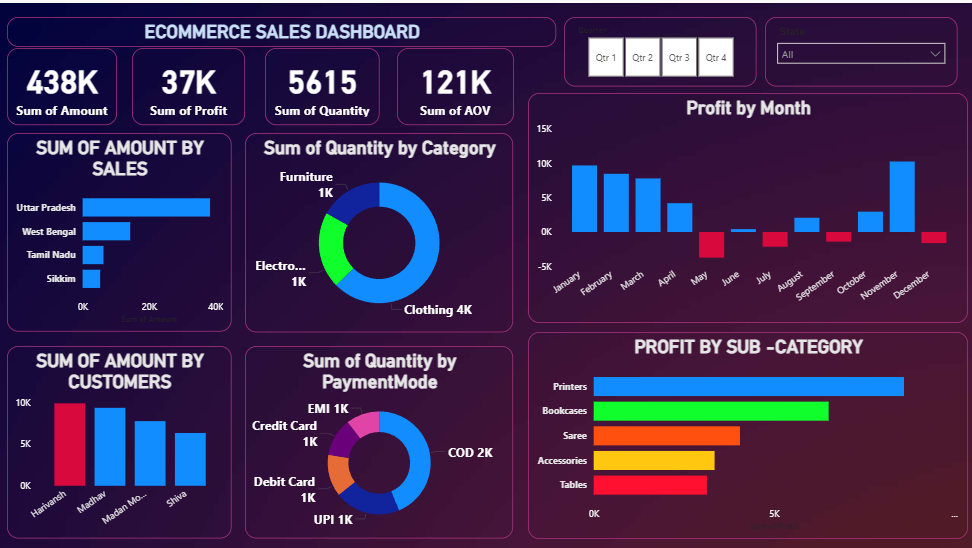

What the dashboard file says about the page in this screenshot:
{"tool":"powerbi","page":{"name":"Page 1","canvas":[1280,720],"ordinal":0},"visuals":[{"type":"textbox","title":" ECOMMERCE SALES DASHBOARD","box":[10.1,18.7,718.6,38.9],"z":0},{"type":"columnChart","title":" Profit by Month","fields":{"Y":["Sum(Details.Profit)"],"Category":["Orders.Order Date.Variation.Date Hierarchy.Month"]},"box":[692.6,118.1,576,301],"z":1000},{"type":"barChart","title":" PROFIT BY SUB -CATEGORY","fields":{"Category":["Details.Sub-Category"],"Y":["Sum(Details.Profit)"]},"box":[692.6,430.6,576,270.7],"z":2000},{"type":"donutChart","fields":{"Category":["Details.Category"],"Y":["Sum(Details.Quantity)"]},"box":[322.6,169.9,351.4,260.6],"z":3000},{"type":"donutChart","fields":{"Category":["Details.PaymentMode"],"Y":["Sum(Details.Quantity)"]},"box":[322.6,449.3,351.4,252],"z":4000},{"type":"card","fields":{"Values":["Sum(Details.Amount)"]},"box":[10.1,59,144,100.8],"z":5000},{"type":"card","fields":{"Values":["Sum(Details.Profit)"]},"box":[174.2,59,148.3,100.8],"z":6000},{"type":"card","fields":{"Values":["Sum(Details.Quantity)"]},"box":[348.5,59,149.8,100.8],"z":7000},{"type":"card","fields":{"Values":["Sum(Details.AOV)"]},"box":[521.3,59,152.6,100.8],"z":8000},{"type":"barChart","title":"SUM OF AMOUNT BY SALES ","fields":{"Y":["Sum(Details.Amount)"],"Category":["Orders.State"]},"box":[10.1,169.7,294,260.4],"z":9000},{"type":"columnChart","title":" SUM OF AMOUNT BY CUSTOMERS","fields":{"Y":["Sum(Details.Amount)"],"Category":["Orders.CustomerName"]},"box":[10.1,448.5,294,252],"z":10000},{"type":"slicer","fields":{"Values":["Orders.Order Date.Variation.Date Hierarchy.Quarter"]},"box":[740.2,18.7,252,90.7],"z":11000},{"type":"slicer","fields":{"Values":["Orders.State"]},"box":[1002.2,18.7,252,90.7],"z":12000}]}

Visuals, with their boxes in screenshot pixels (x1, y1, x2, y2), scaled from the page's 1280x720 canvas onto the 972x548 screenshot:
" ECOMMERCE SALES DASHBOARD" textbox: pyautogui.locateOnScreen(8, 14, 553, 44)
" Profit by Month" columnChart: pyautogui.locateOnScreen(526, 90, 963, 319)
" PROFIT BY SUB -CATEGORY" barChart: pyautogui.locateOnScreen(526, 328, 963, 534)
donutChart - Details.Category x Sum(Details.Quantity): pyautogui.locateOnScreen(245, 129, 512, 328)
donutChart - Details.PaymentMode x Sum(Details.Quantity): pyautogui.locateOnScreen(245, 342, 512, 534)
card - Sum(Details.Amount): pyautogui.locateOnScreen(8, 45, 117, 122)
card - Sum(Details.Profit): pyautogui.locateOnScreen(132, 45, 245, 122)
card - Sum(Details.Quantity): pyautogui.locateOnScreen(265, 45, 378, 122)
card - Sum(Details.AOV): pyautogui.locateOnScreen(396, 45, 512, 122)
"SUM OF AMOUNT BY SALES " barChart: pyautogui.locateOnScreen(8, 129, 231, 327)
" SUM OF AMOUNT BY CUSTOMERS" columnChart: pyautogui.locateOnScreen(8, 341, 231, 533)
slicer - Orders.Order Date.Variation.Date Hierarchy.Quarter: pyautogui.locateOnScreen(562, 14, 753, 83)
slicer - Orders.State: pyautogui.locateOnScreen(761, 14, 952, 83)
